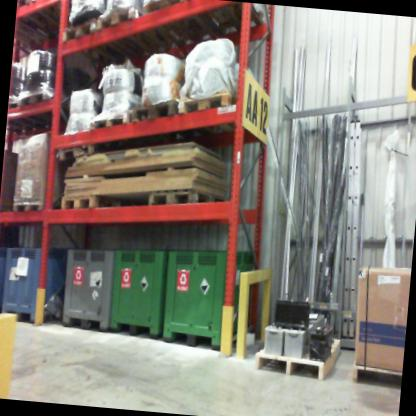pallet: (173, 87, 268, 149), (59, 15, 136, 79), (252, 330, 345, 382), (129, 93, 205, 154), (95, 3, 165, 68), (139, 0, 216, 55), (144, 184, 231, 222), (186, 0, 270, 39), (14, 0, 65, 54), (14, 87, 75, 131), (62, 185, 128, 219), (55, 139, 109, 175), (7, 93, 49, 137), (350, 357, 402, 390), (88, 106, 135, 139), (11, 196, 60, 219), (29, 0, 83, 18)
